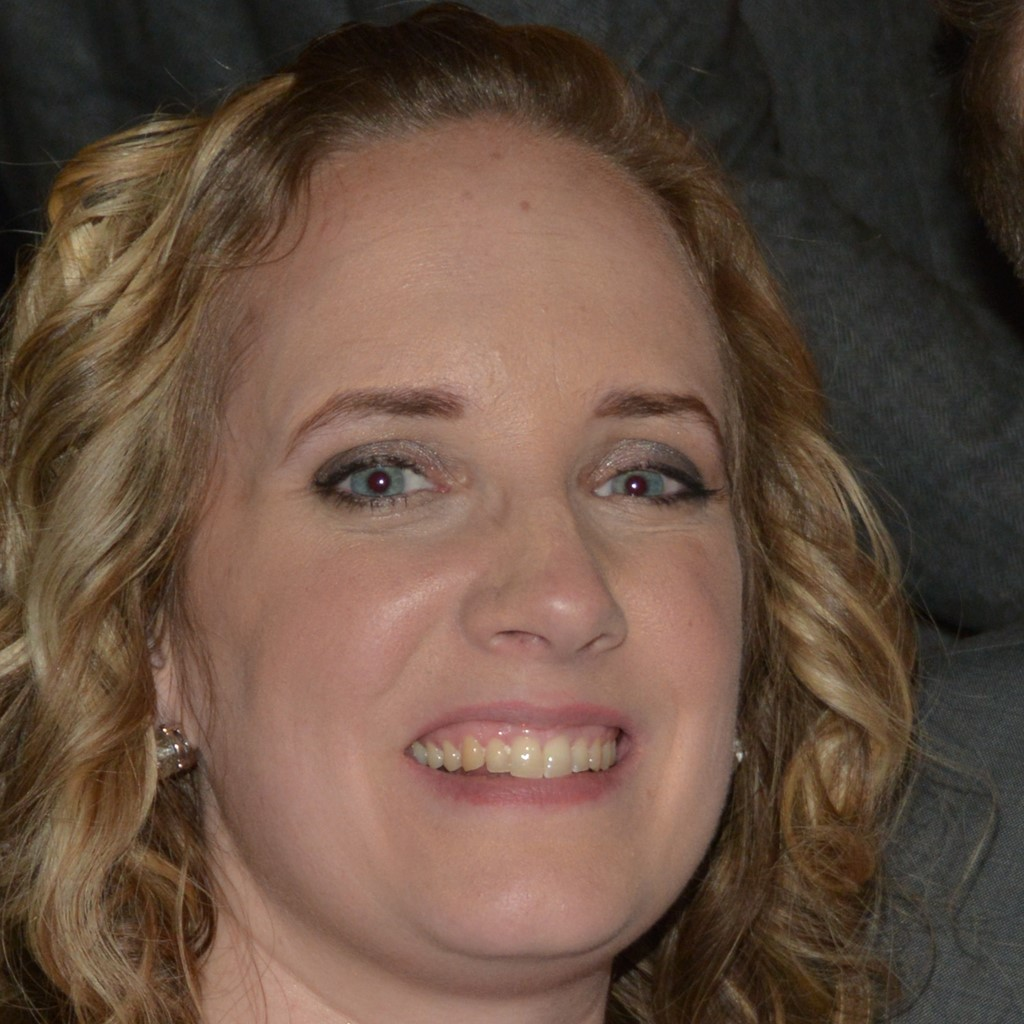sin_mascara: (151, 108, 757, 992)
